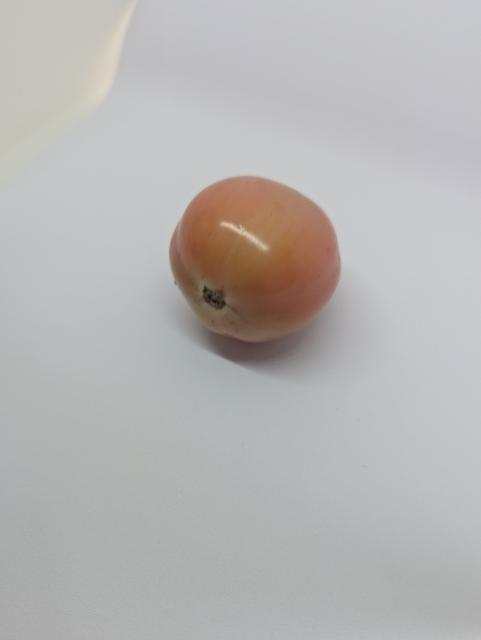turning: (160, 160, 348, 358)
